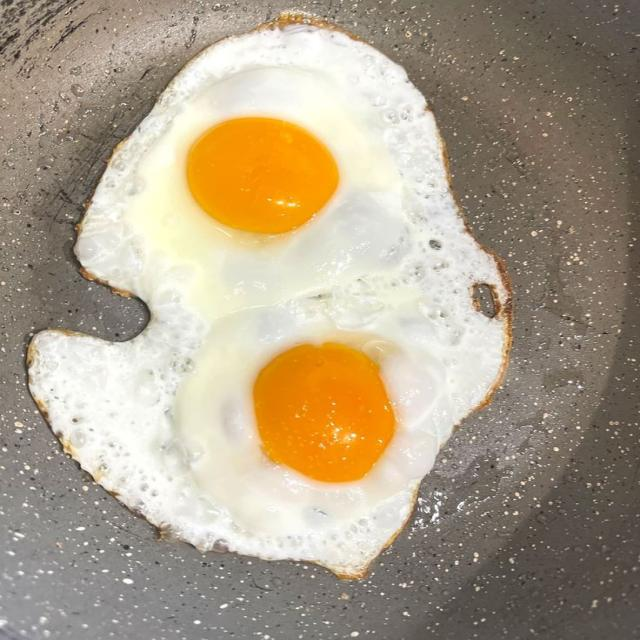fryed egg: (29, 18, 510, 576)
